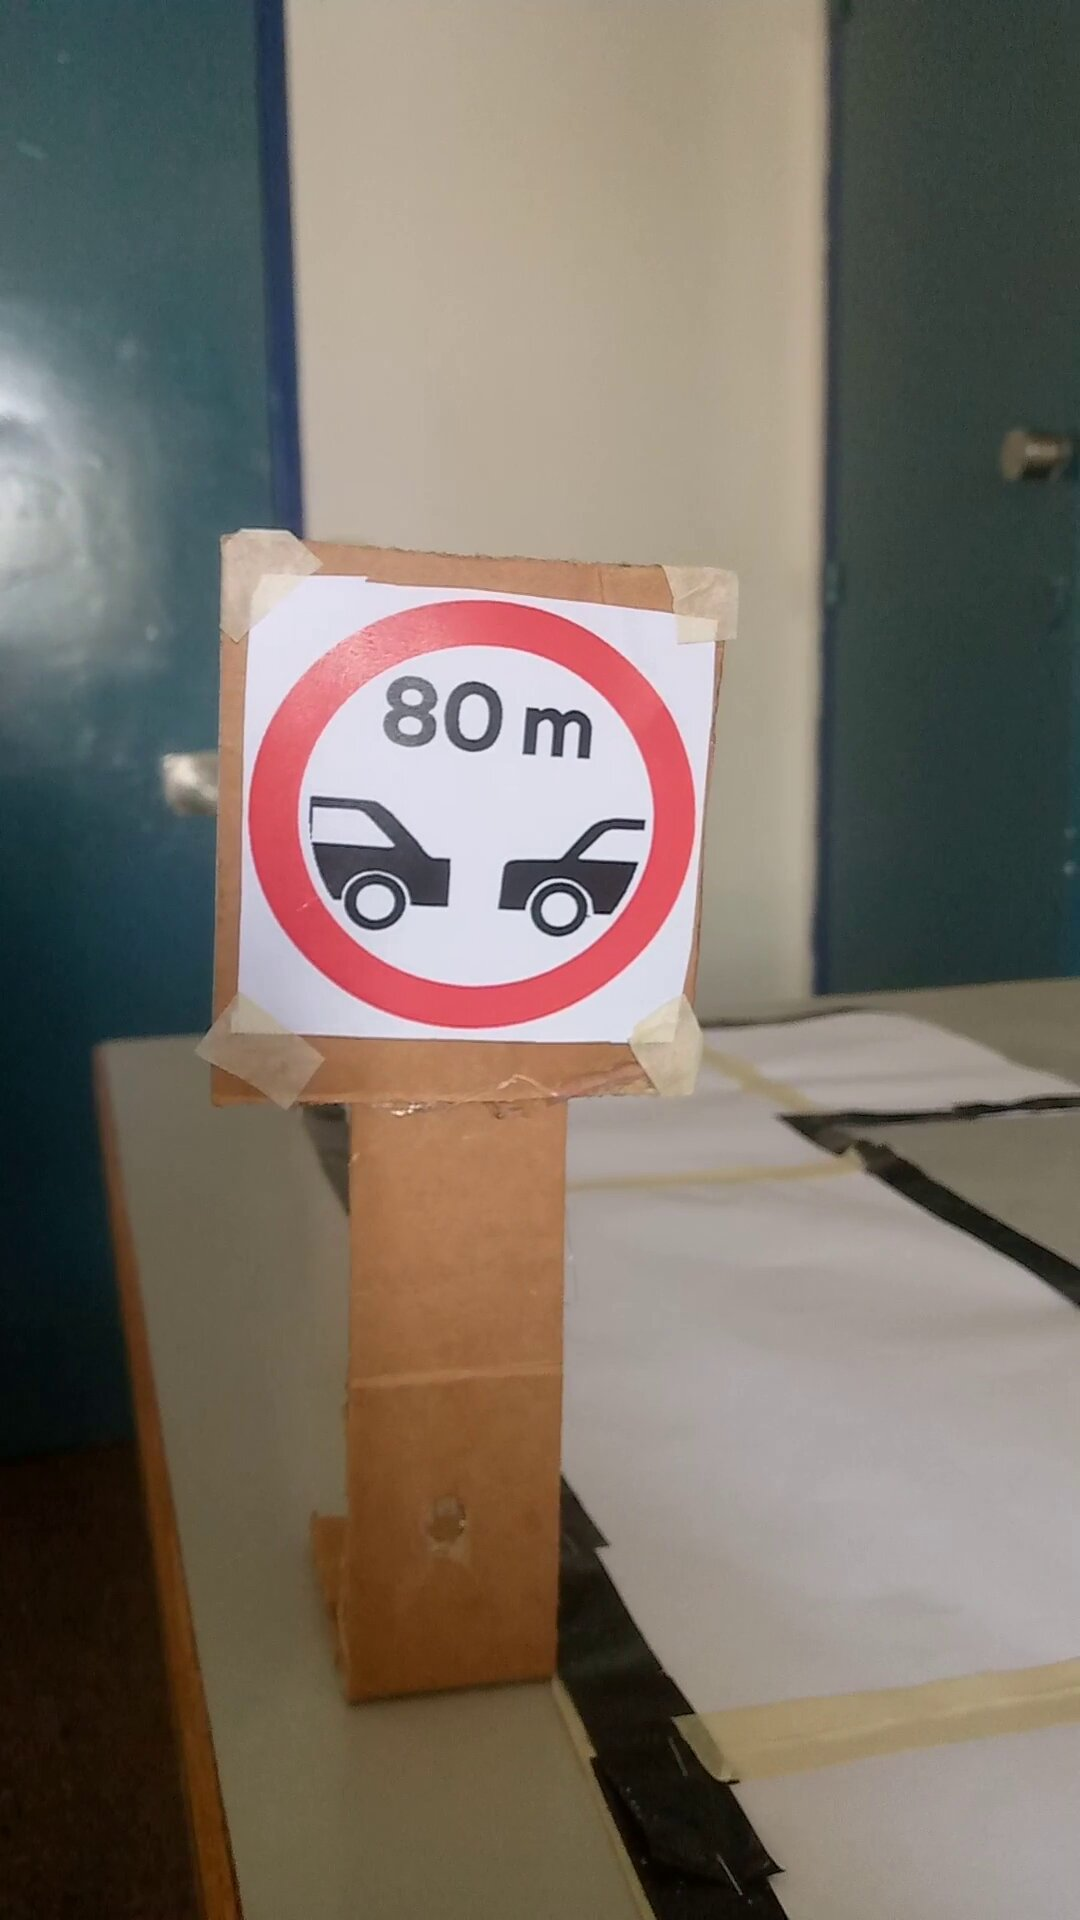panel001: (227, 526, 713, 1109)
